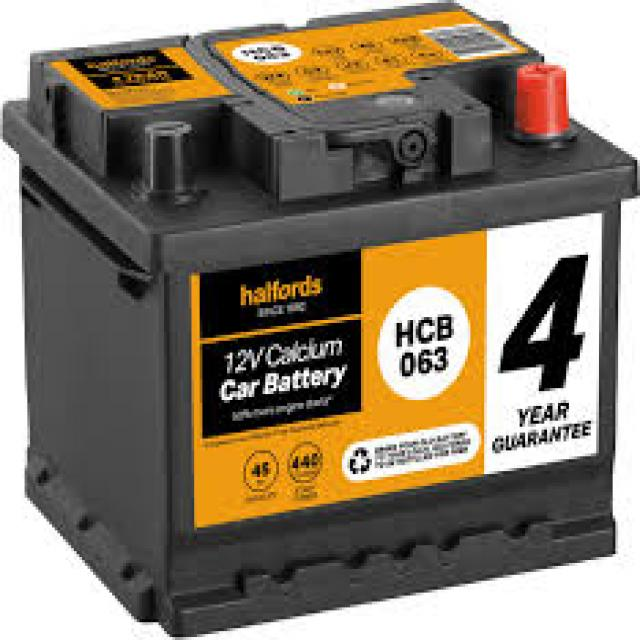hazard: (31, 12, 605, 582)
